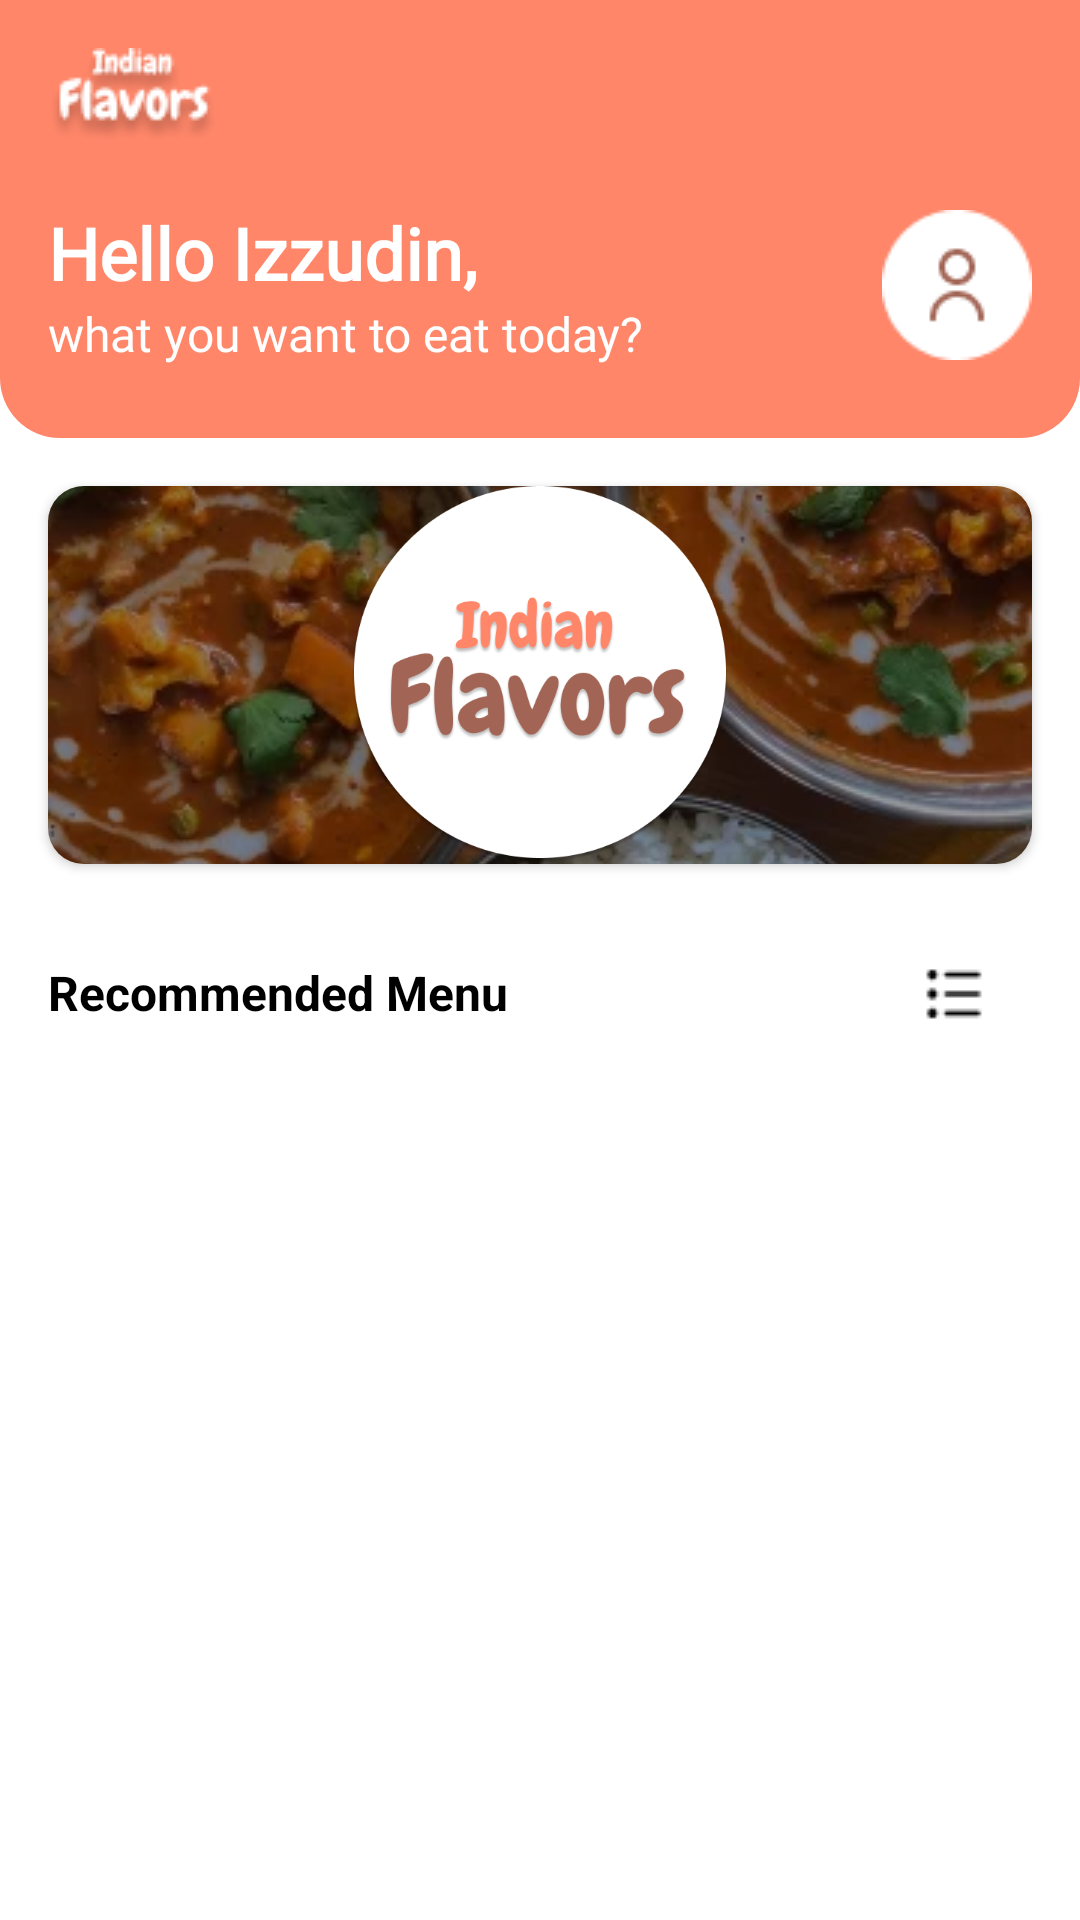

Icon bounding boxes for this 1080px x 1920px phone screenshot, format (x1, y1, x2, y2):
icon user profile: (882, 210, 1032, 360)
